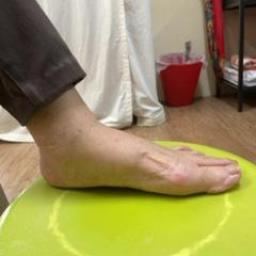Medial View -Left Foot-: (15, 79, 250, 220)
